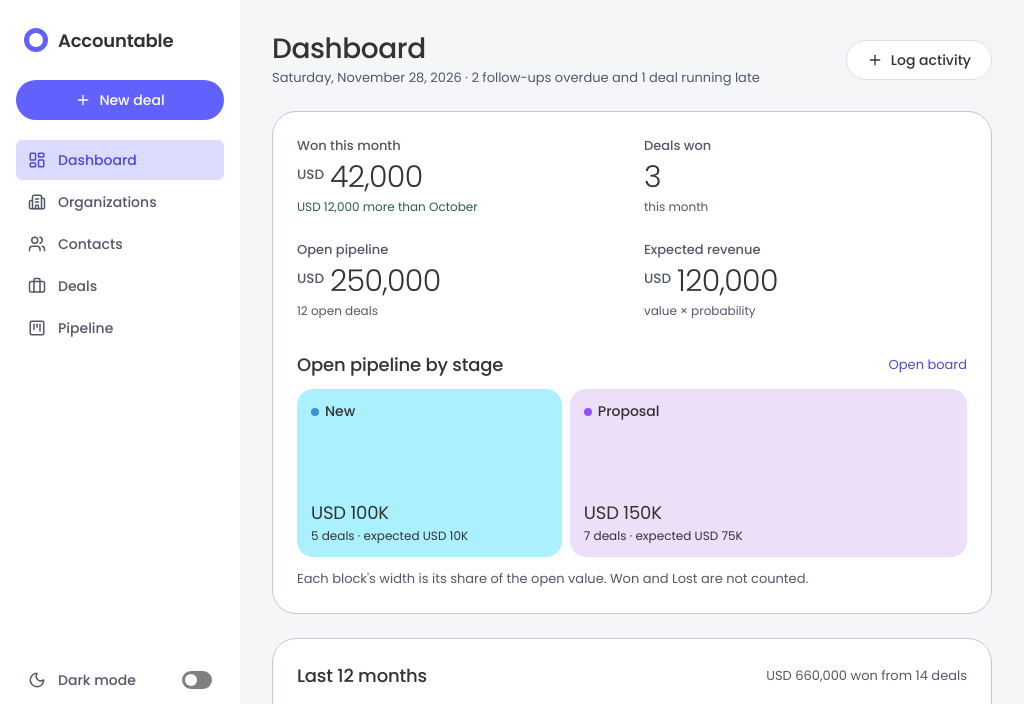
Test: dashboard (B1–B7) › opens the activity form from "Log activity"
Expected: the element named "Headline figures" is shown, [272,111,992,614]
Click the button "Log activity" at (919, 60), box [846,40,992,80]
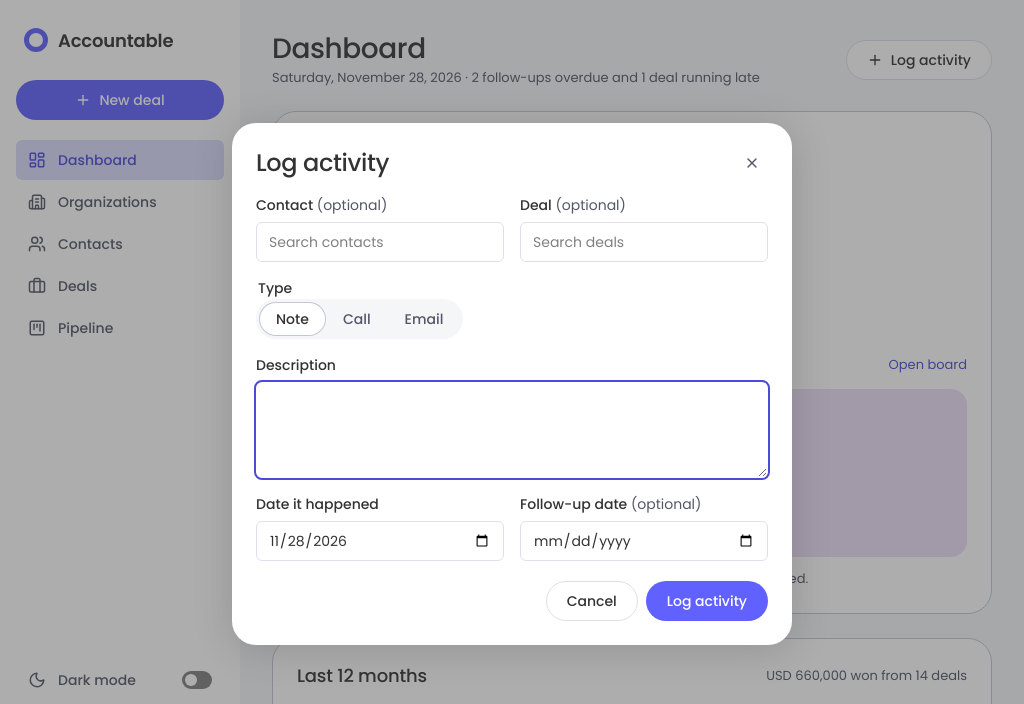
Result: the dialog "Log activity" is shown at [232,123,792,645]
